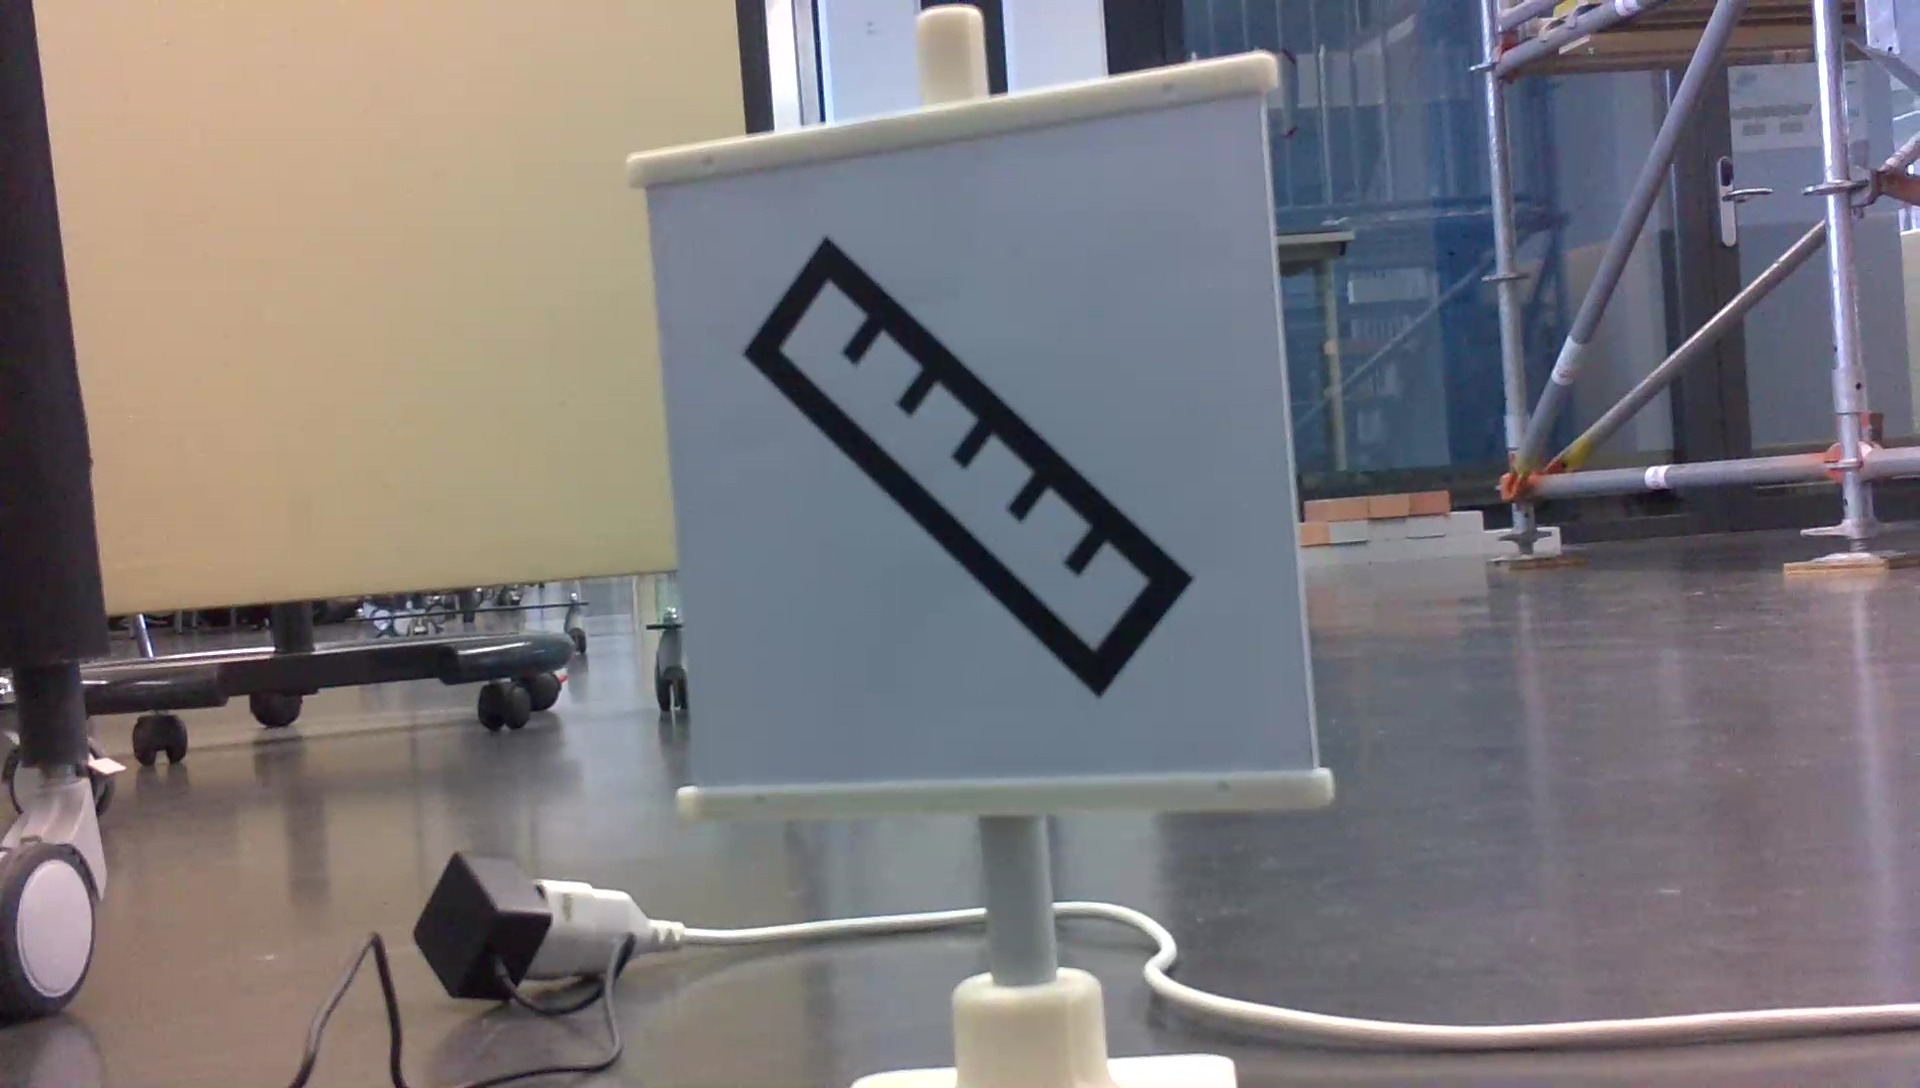ruler: (727, 233, 1197, 699)
